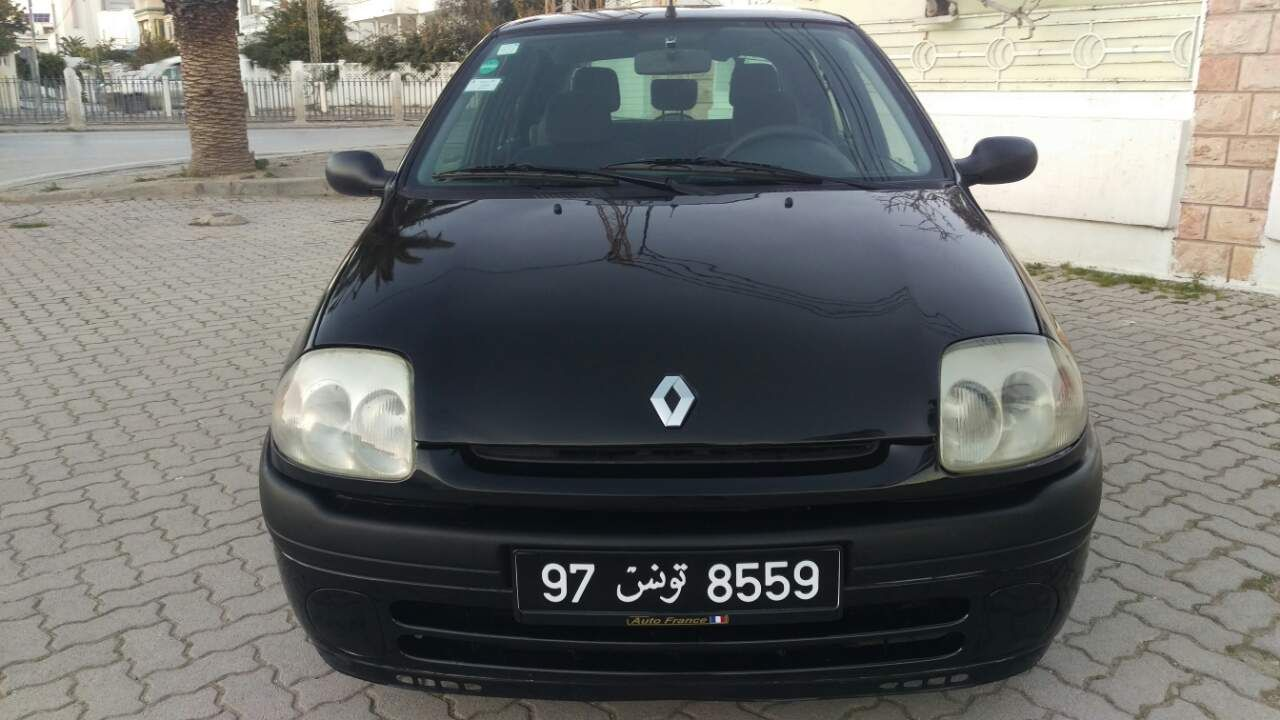LP: (508, 544, 849, 616)
